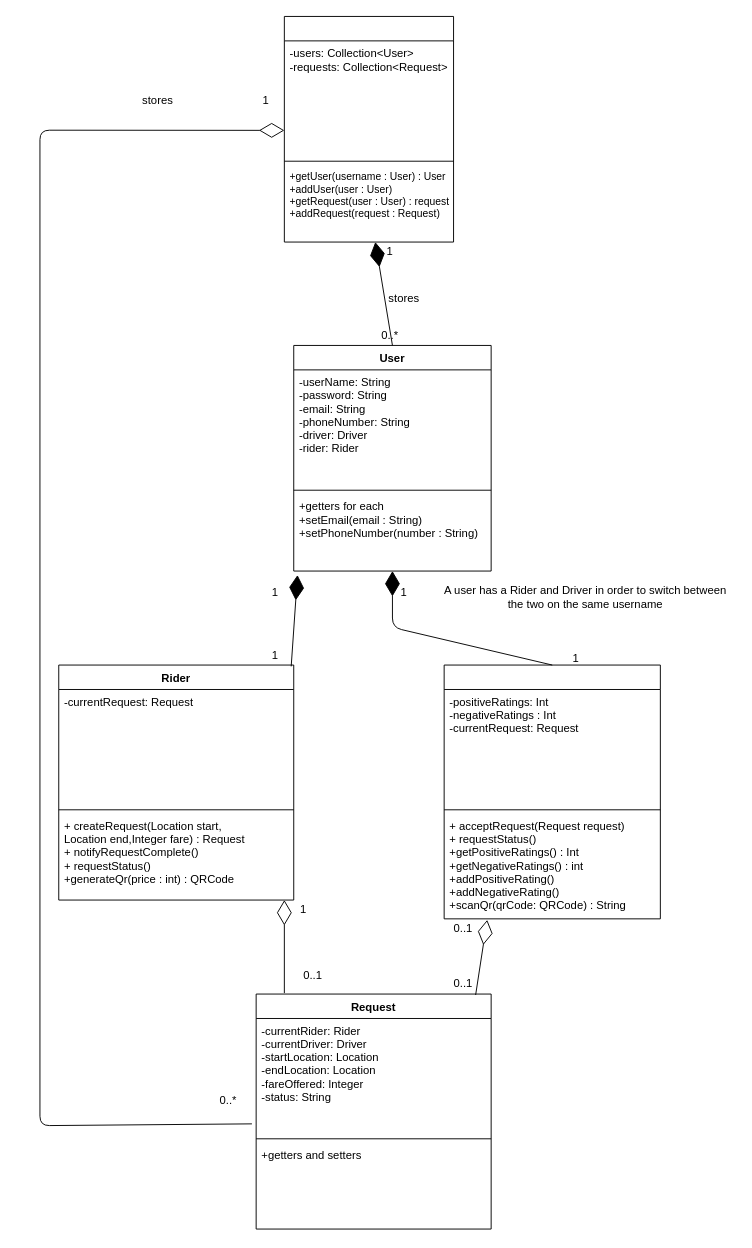
Some shapes in this 752 by 1248 pixel diagram are drawn without their labels. The box of each missing label's shape, as (x1, y1, x2, y2) in pixels:
Database: (283, 16, 454, 242)
Driver: (443, 664, 660, 919)
